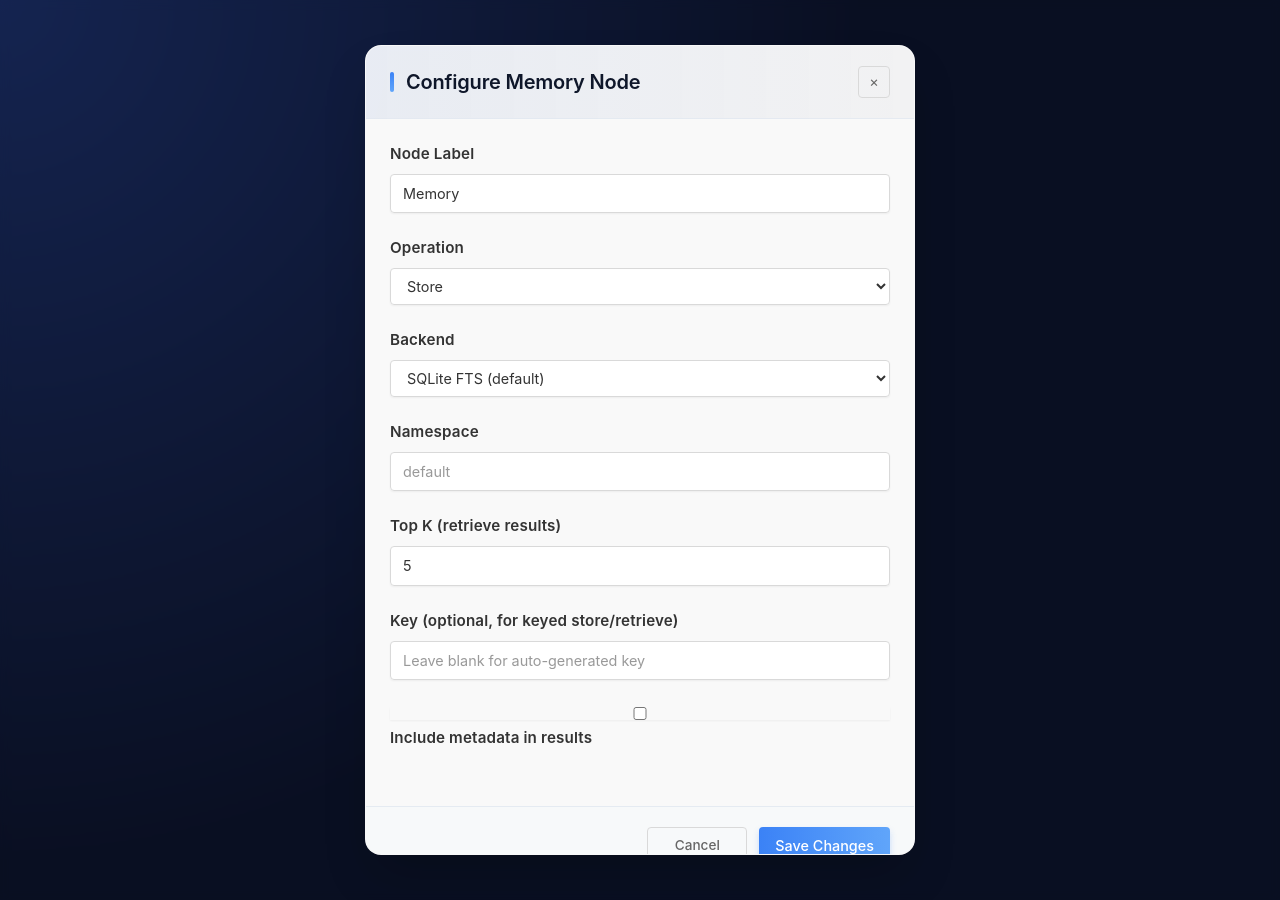
it: NodeConfigModal — Memory Node › reveals chroma fields after switching backend to chroma
Step 1. Select "ChromaDB (vector search)" in the dropdown labelled "Backend" → (640, 378), box [390,360,890,397]
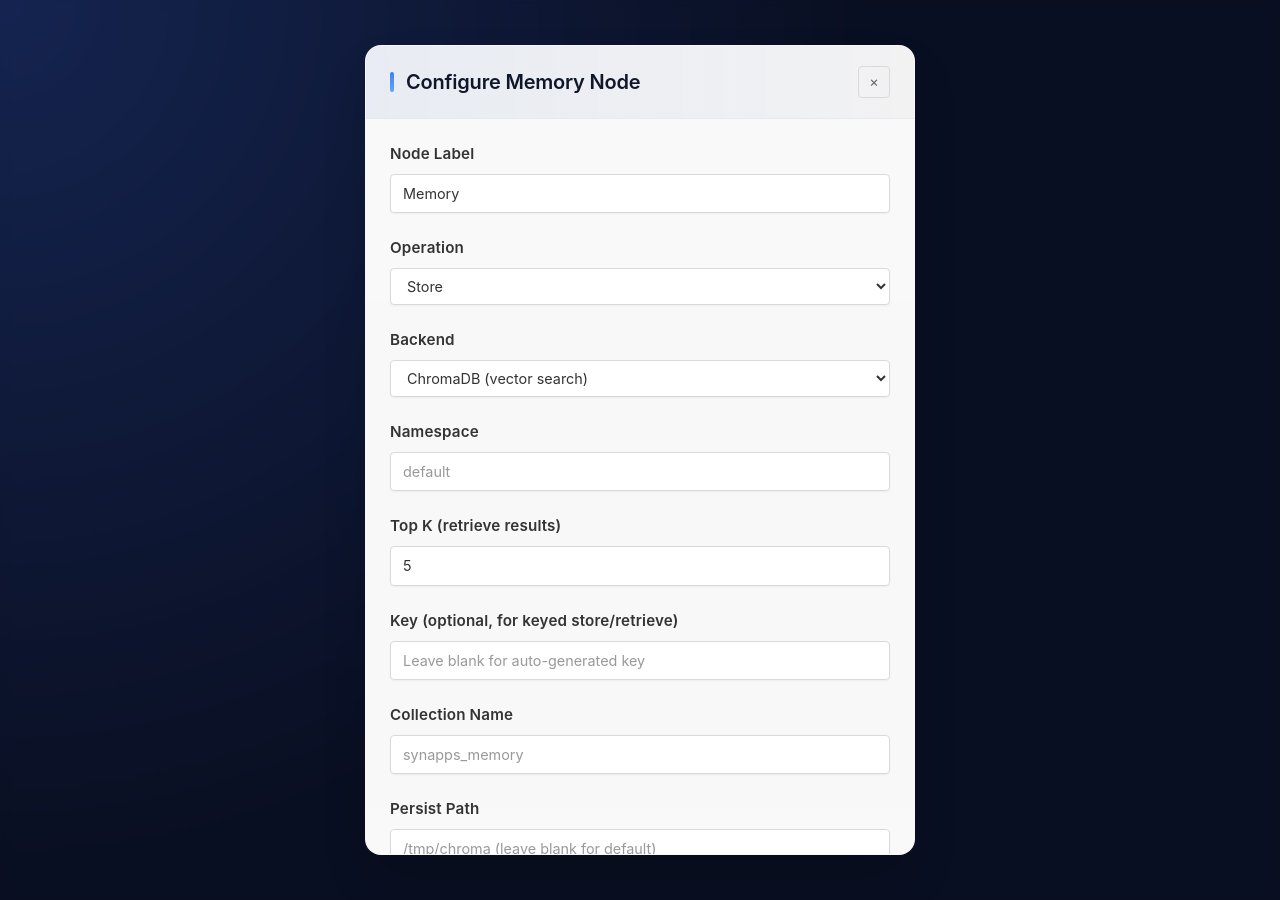
Now the field labelled "Collection Name" is shown, box [390,735,890,774]
